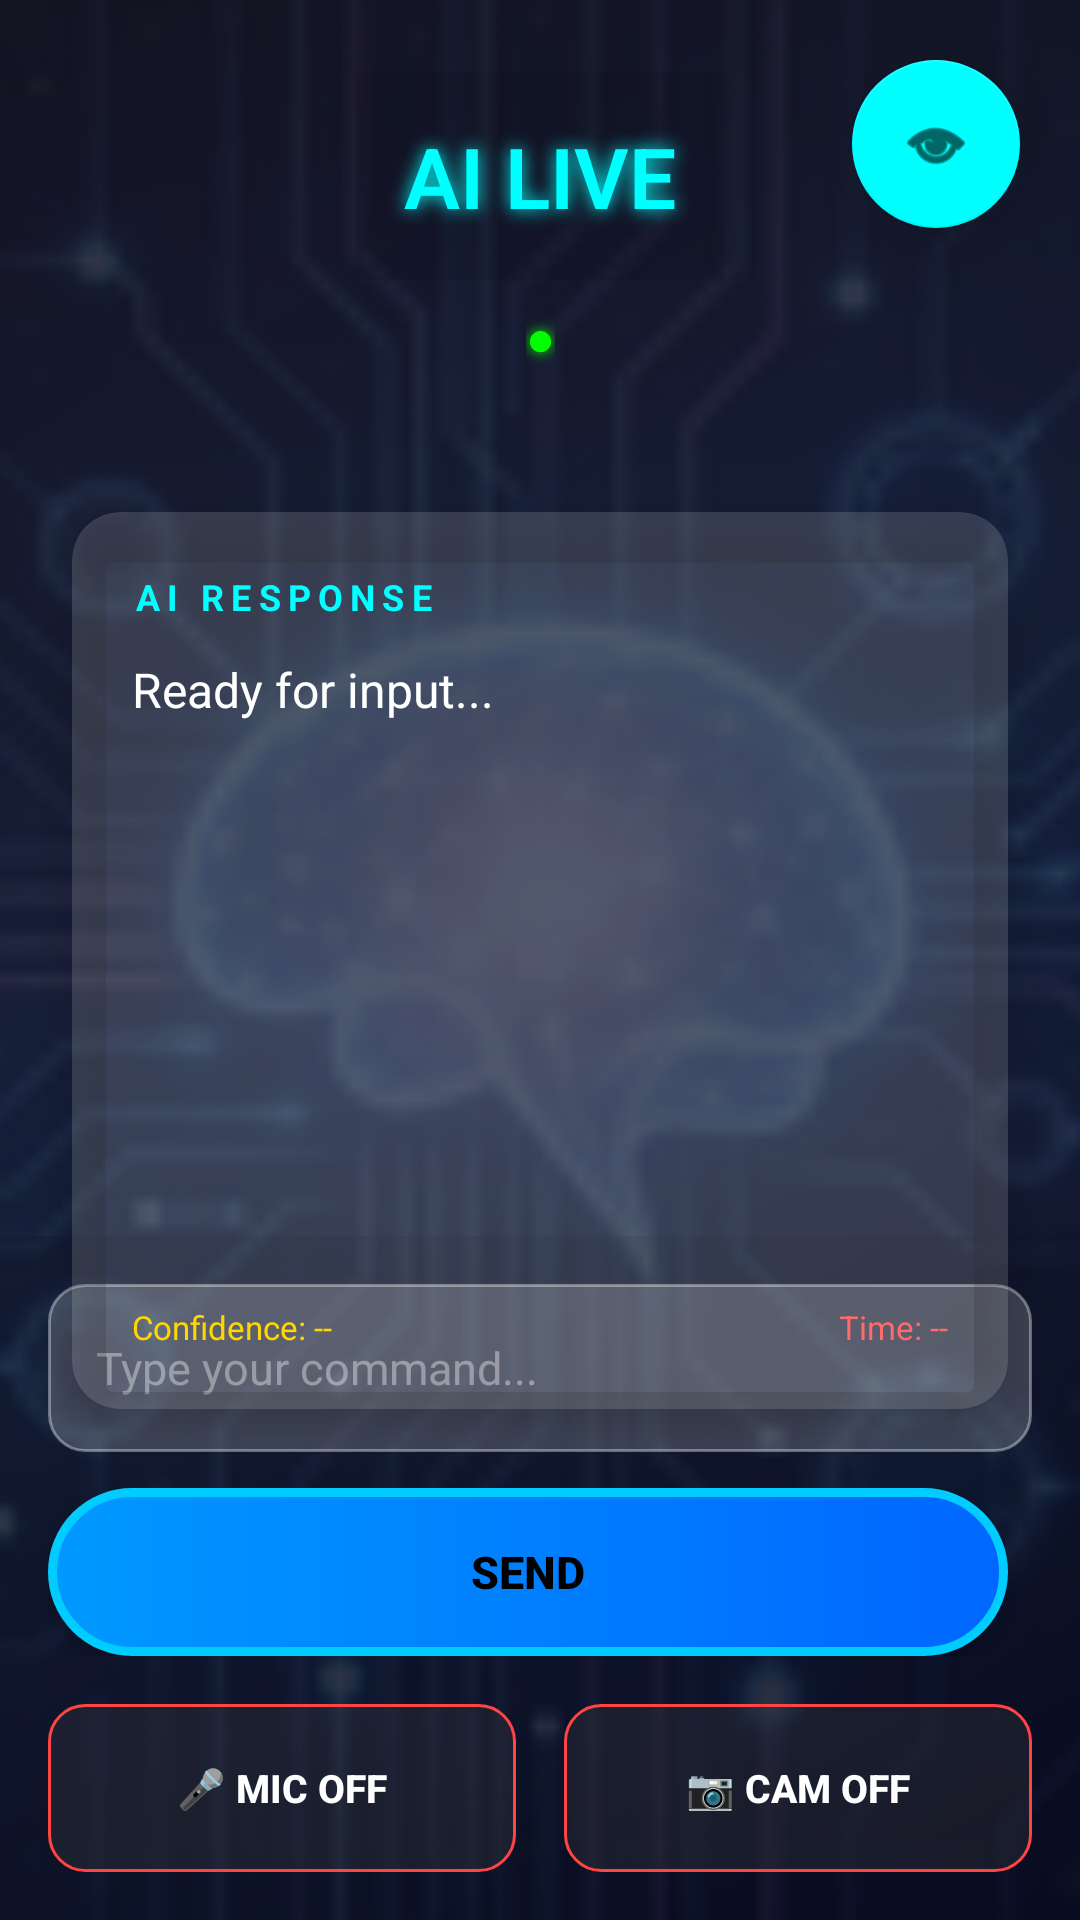

Icon click points for this 1080w x 1920h phone screenshot, format (x=x, y=y):
view: (x=936, y=144)
